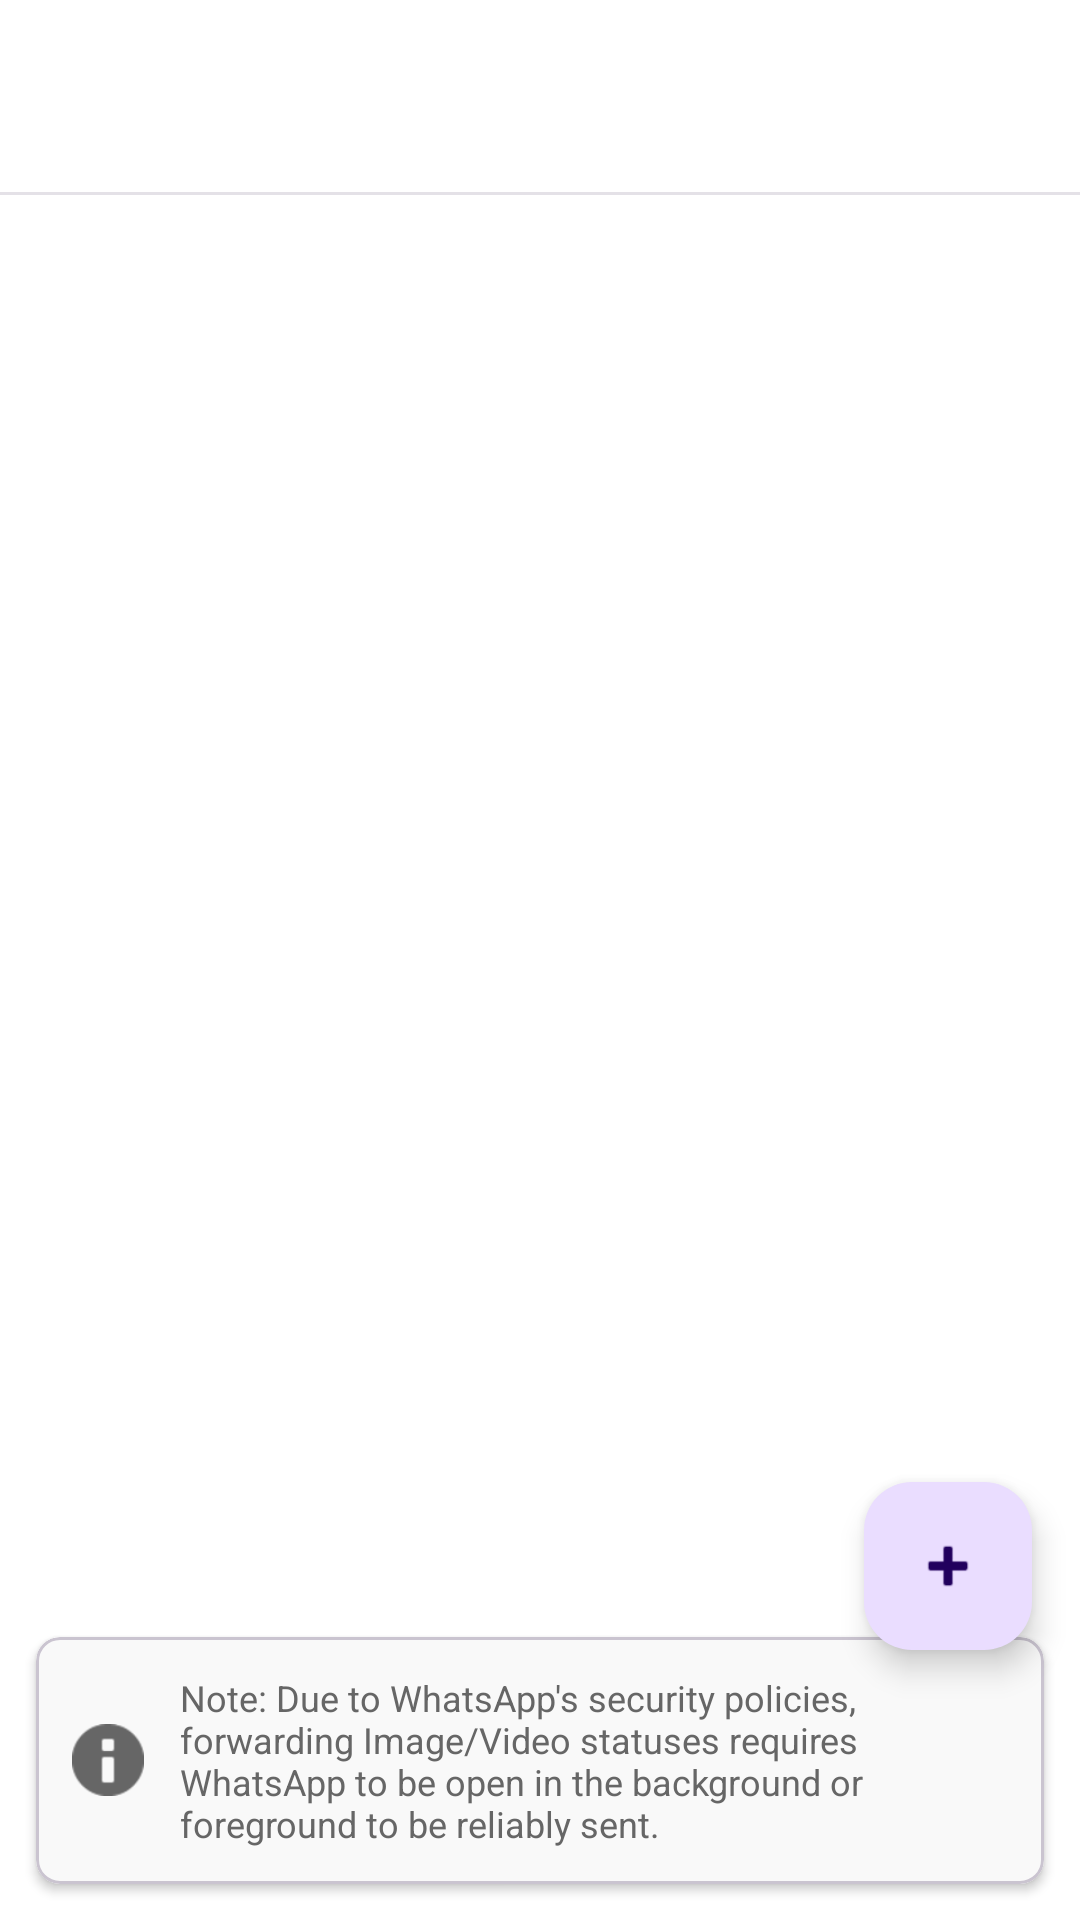

Locate icon controls on the screen. Image size 1080px x 1920px, boxes as (x1, y1, x2, y2).
Add Rule: (864, 1482, 1032, 1650)
info: (72, 1724, 144, 1796)
